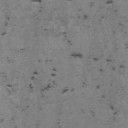oxide scale of temperature system: (26, 0, 128, 117), (2, 16, 10, 36), (30, 0, 42, 3), (20, 46, 26, 51), (6, 83, 12, 87), (0, 117, 4, 123), (58, 125, 62, 128)
